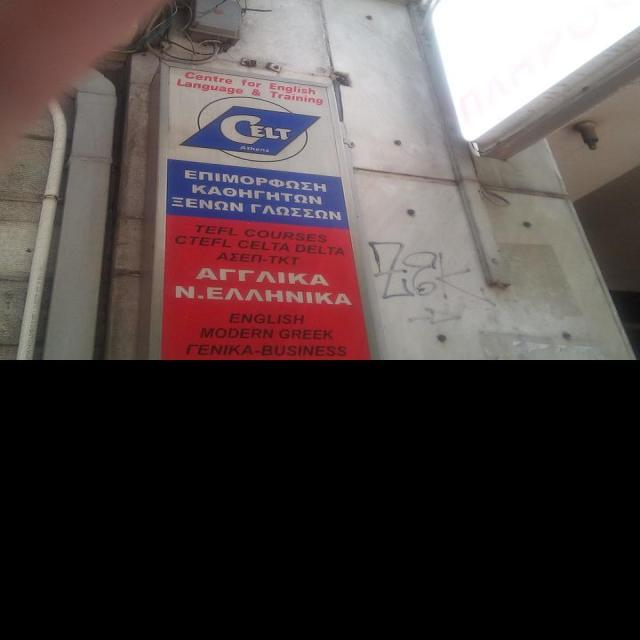nonspitting: (368, 242, 497, 326)
